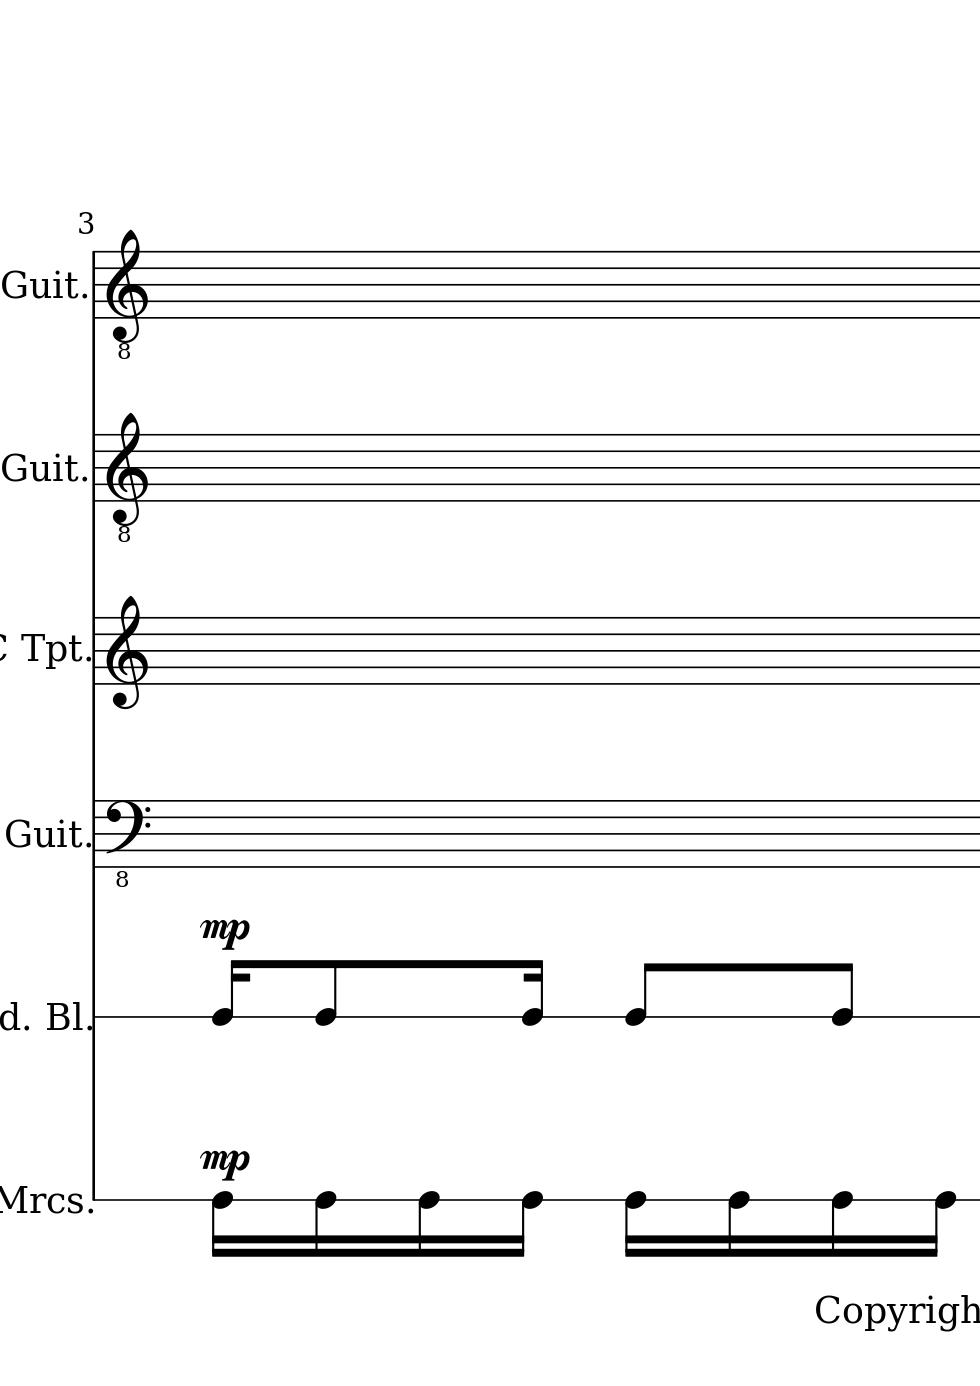16_4: (211, 958, 249, 1027), (925, 1189, 957, 1259), (511, 1190, 543, 1259), (622, 1189, 646, 1261), (209, 1190, 233, 1261), (521, 957, 545, 1027), (312, 1189, 335, 1260), (416, 1189, 439, 1260), (725, 1189, 749, 1260), (829, 1189, 852, 1260)
3: (78, 209, 93, 236)
8_4: (622, 961, 657, 1027), (312, 957, 337, 1027), (830, 961, 855, 1027)
Gclef: (104, 594, 148, 709)
Guit: (1, 446, 80, 489), (2, 815, 82, 855), (1, 266, 78, 306)
Lower_Fclef: (103, 799, 150, 888)
Lower_Gclef: (104, 410, 151, 542), (105, 228, 150, 361)
Single_barline: (87, 802, 106, 869), (87, 617, 103, 685), (87, 434, 102, 503), (87, 252, 101, 319)
Tpt: (18, 628, 81, 672)
mp: (198, 916, 253, 953), (199, 1148, 253, 1182)
